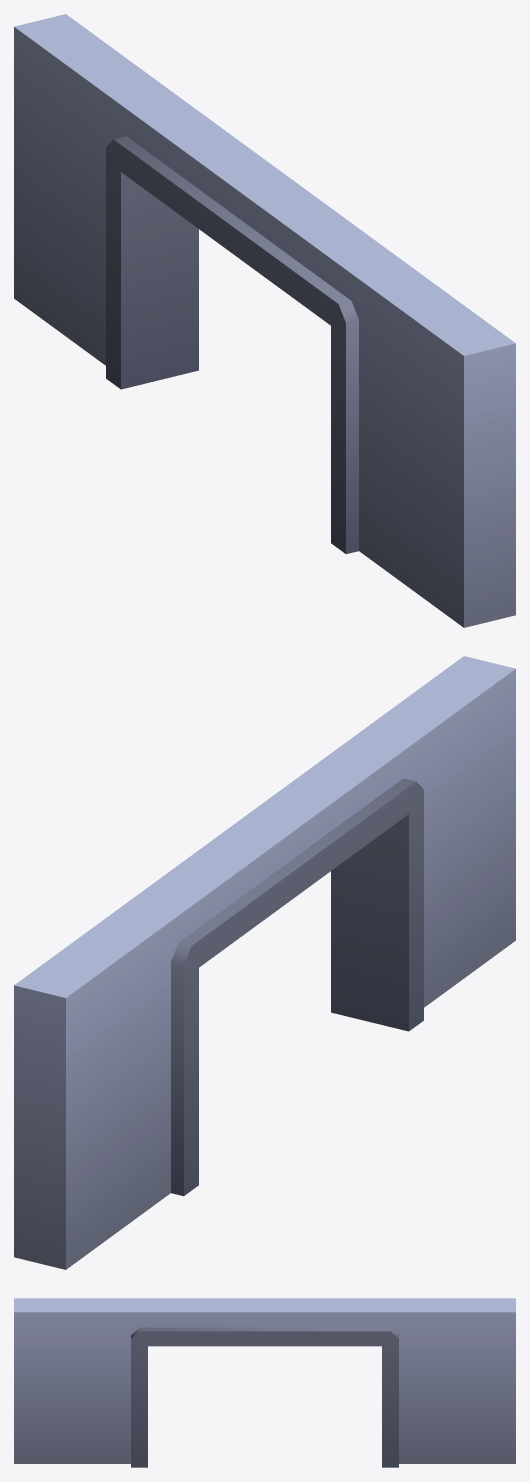
Rendered from kenney-prototype-wall-doorway-wide-sliding.glb.
3 views of the same model, one above another, from view 1: azimuth 30°, elevation 25°; view 2: azimuth 150°, elevation 25°; view 3: azimuth 270°, elevation 25° (orthographic). The views are drawn at different scales.
Parts seen in each view (by area): view 1: wall-doorway-wide-sliding; view 2: wall-doorway-wide-sliding; view 3: wall-doorway-wide-sliding.
Part boxes in pixels (x1=…): wall-doorway-wide-sliding: x1=14, y1=14, x2=515, y2=627; wall-doorway-wide-sliding: x1=14, y1=656, x2=515, y2=1269; wall-doorway-wide-sliding: x1=14, y1=1298, x2=515, y2=1467.
Size of the model in its own units: 0.2999 by 0.9999 by 3.
1 material, 1 textured.
